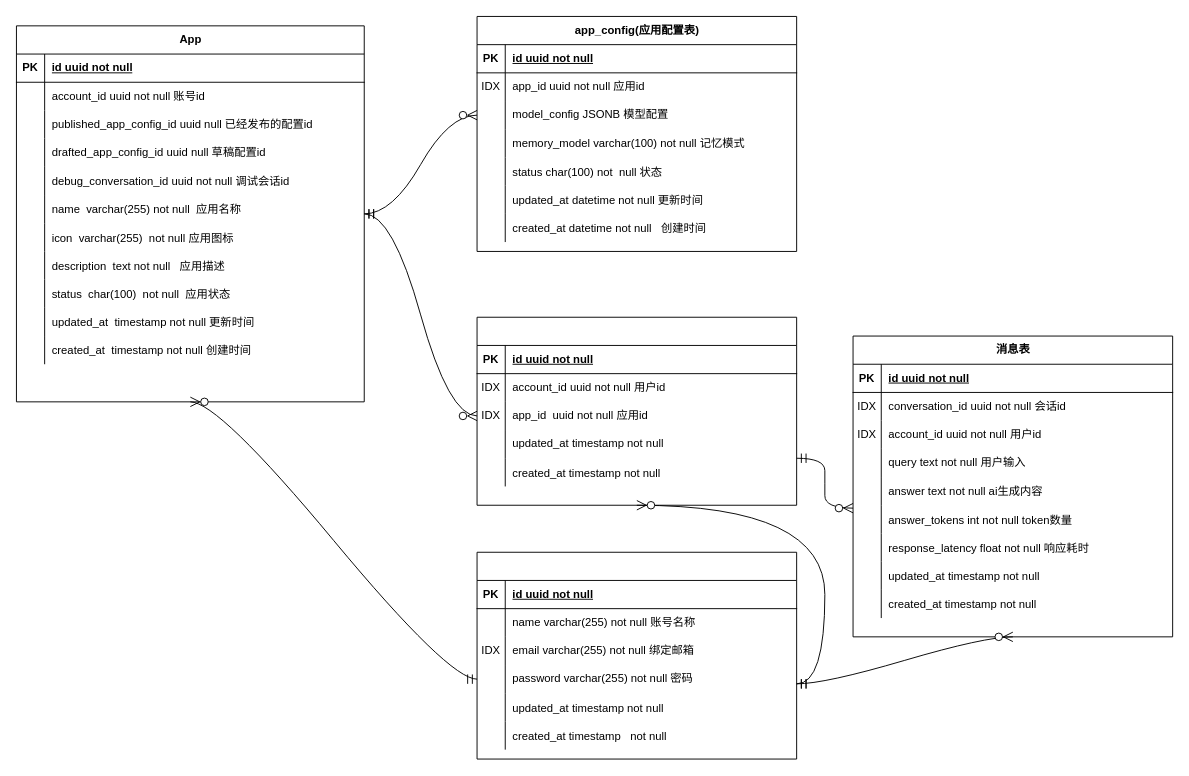
Some shapes in this 1189 by 776 pixel diagram are drawn without their labels. Each missing label, with the box of its shape:
account 账号表: (476, 551, 797, 759)
conversation会话表: (476, 316, 797, 505)
